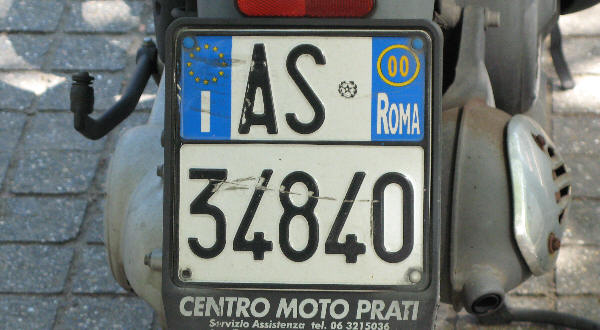license_plate: (173, 28, 434, 292)
